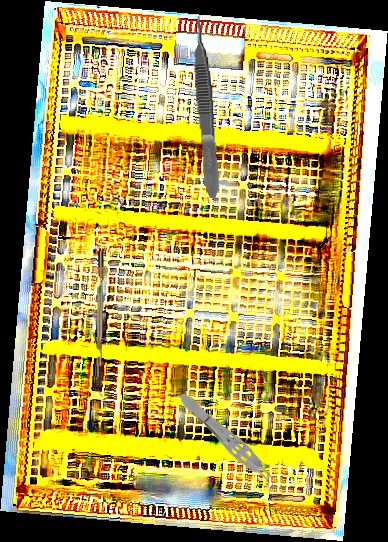Chopper: (93, 248, 112, 398)
Tissue Forceps: (173, 387, 285, 497), (190, 15, 222, 199)
